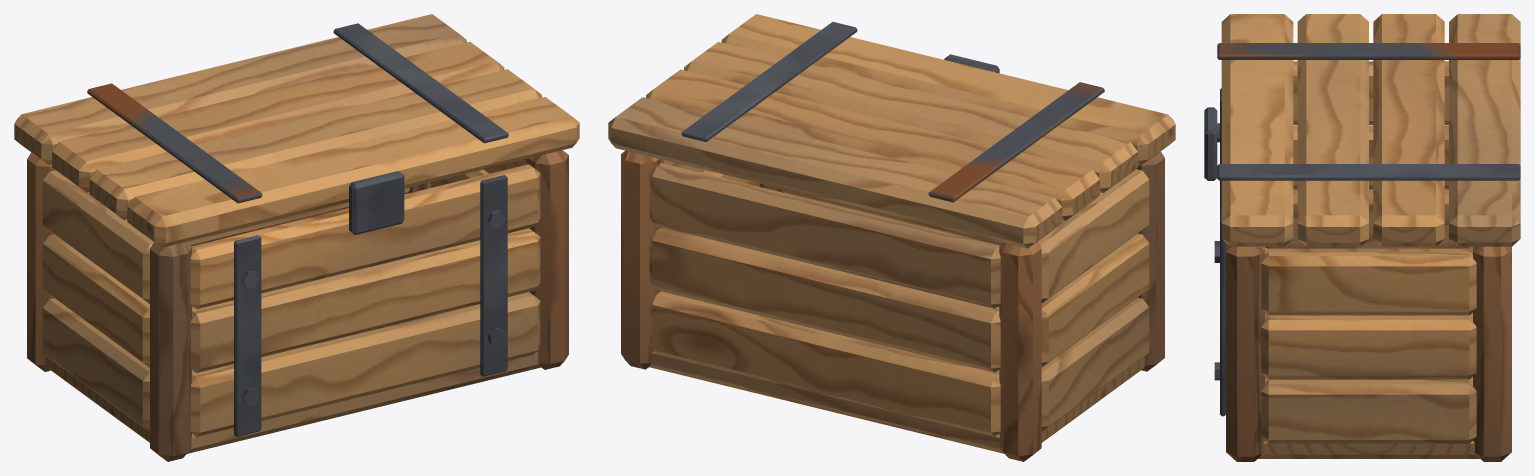
File: sandik.glb
3 renders of one model, left to right at view 1: azimuth 30°, elevation 25°; view 2: azimuth 150°, elevation 25°; view 3: azimuth 270°, elevation 25°, orthographic.
Visible parts, largest first — view 1: sandik, lid; view 2: sandik, lid; view 3: lid, sandik.
Part boxes in pixels (x1,y1,x2,y2): sandik: (27, 150, 568, 461); lid: (14, 14, 579, 247); sandik: (621, 150, 1164, 461); lid: (608, 14, 1175, 248); lid: (1204, 14, 1520, 246); sandik: (1214, 61, 1511, 461).
Size of the model in its own units: 1.14 by 0.654 by 0.73.
1 material, 1 textured.
